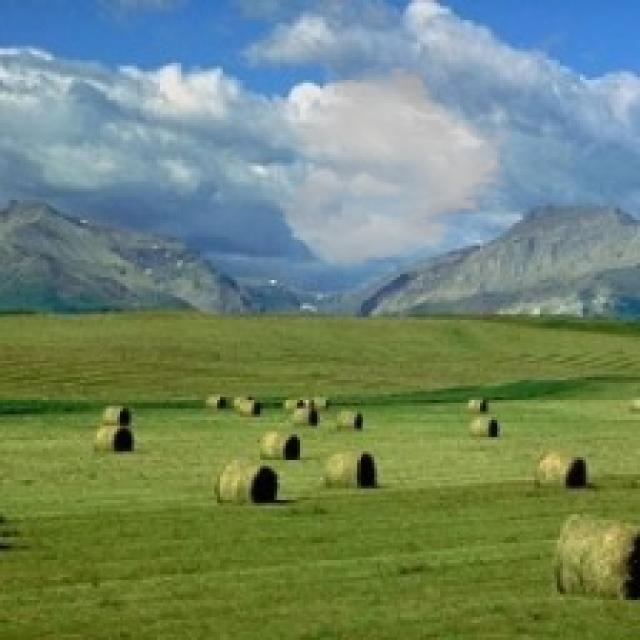smoke: (277, 63, 517, 268)
